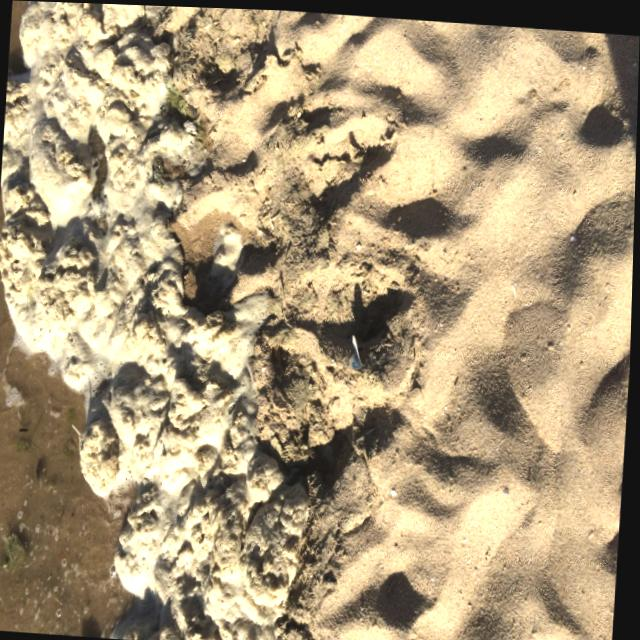Paper: (345, 329, 367, 368)
